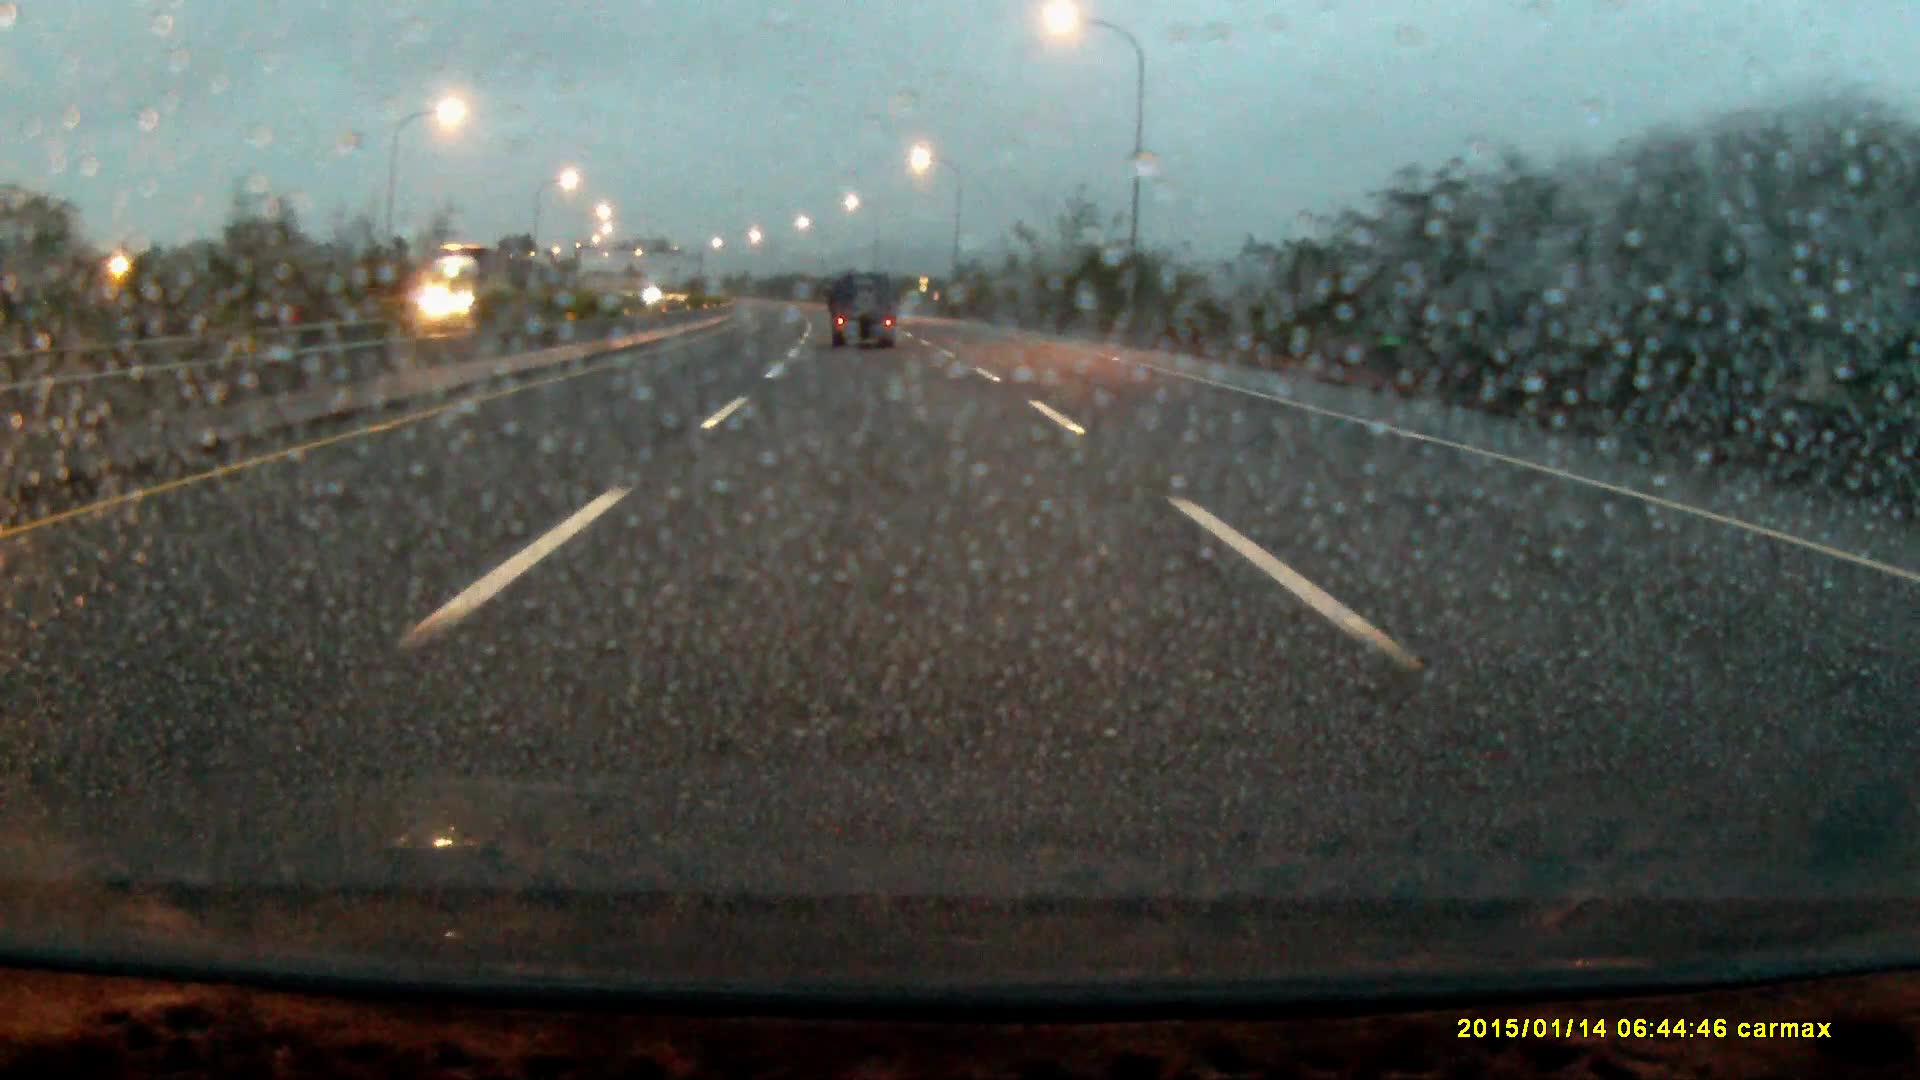vehicle: (413, 243, 530, 334), (831, 272, 902, 349)
